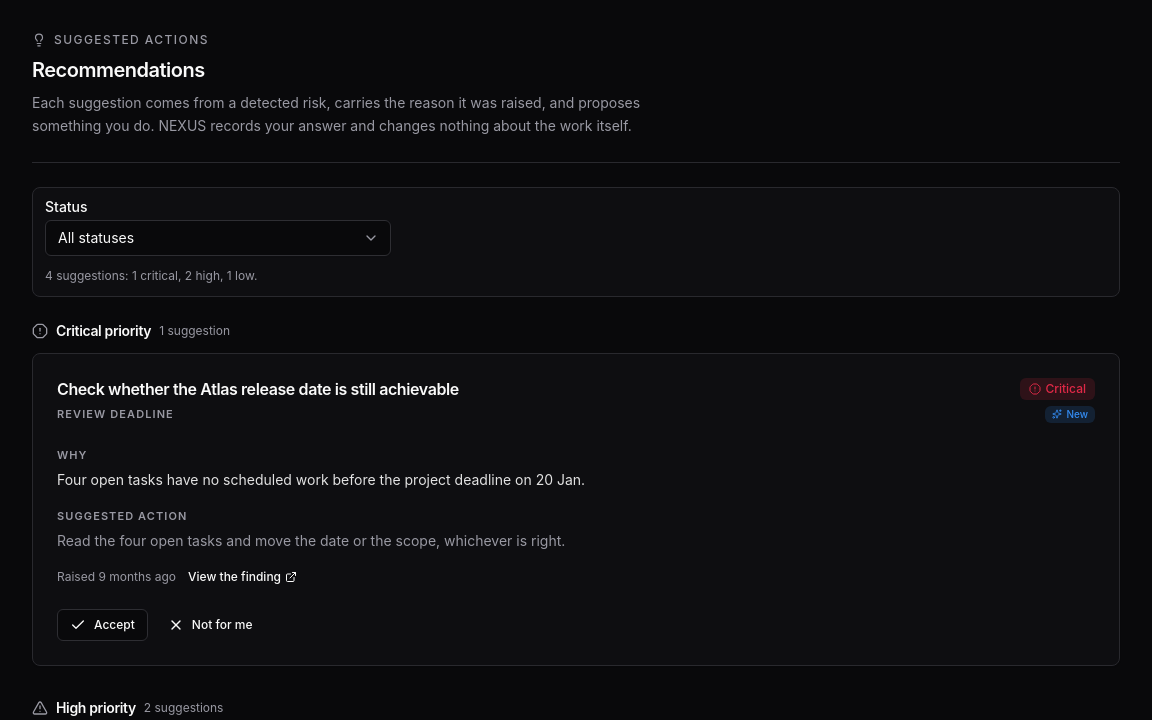
Test: recommendations page › answers with accept, completion and decline, each through its own endpoint
This screenshot has width=1152, height=720.
Expected: the heading "Check whether the Atlas release date is still achievable" is shown, left=57, top=378, right=459, bottom=400
Click the button "Accept": (102, 625) left=57, top=609, right=148, bottom=641
(page scrolled)
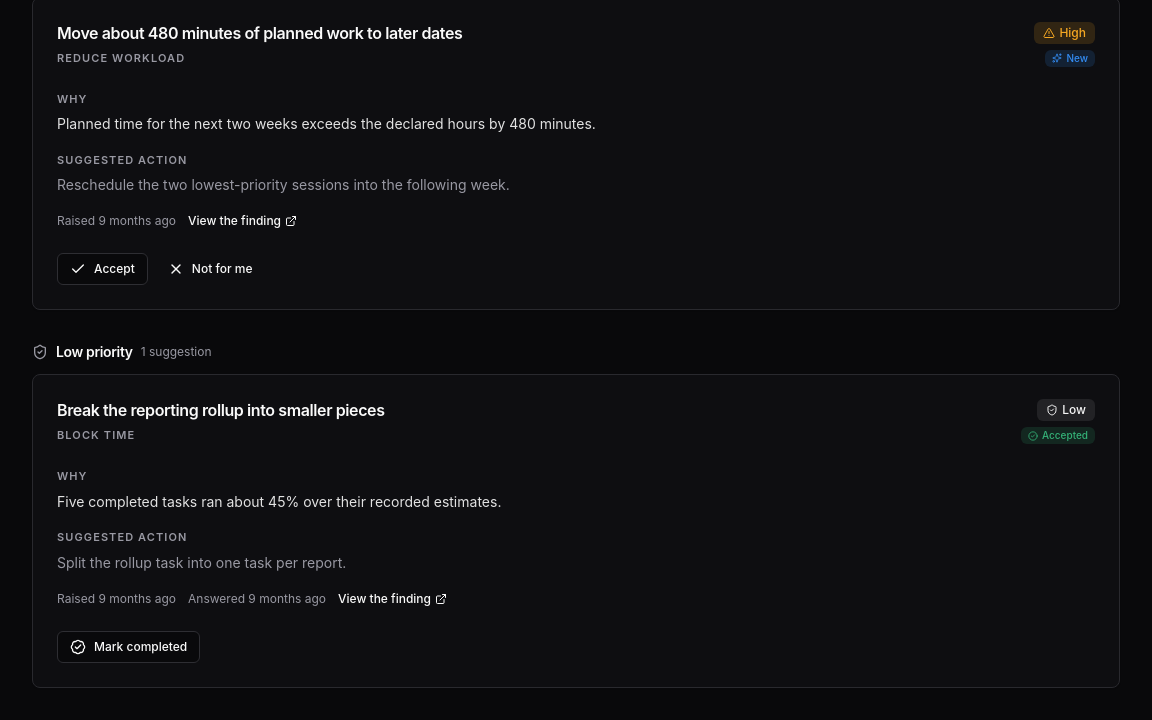
# Mark completed, on a suggestion that was already accepted.
Click the button "Mark completed": (129, 646) left=57, top=630, right=200, bottom=662
(page scrolled)
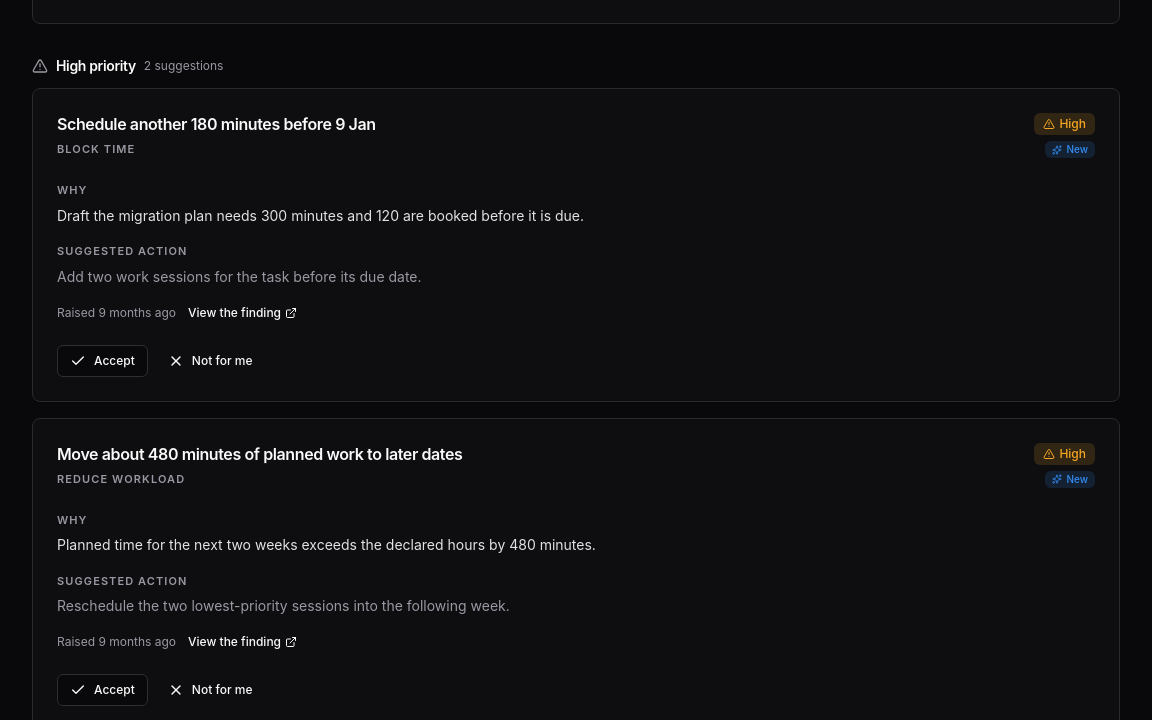
Click the 1st button "Not for me": (210, 360) left=156, top=344, right=264, bottom=376
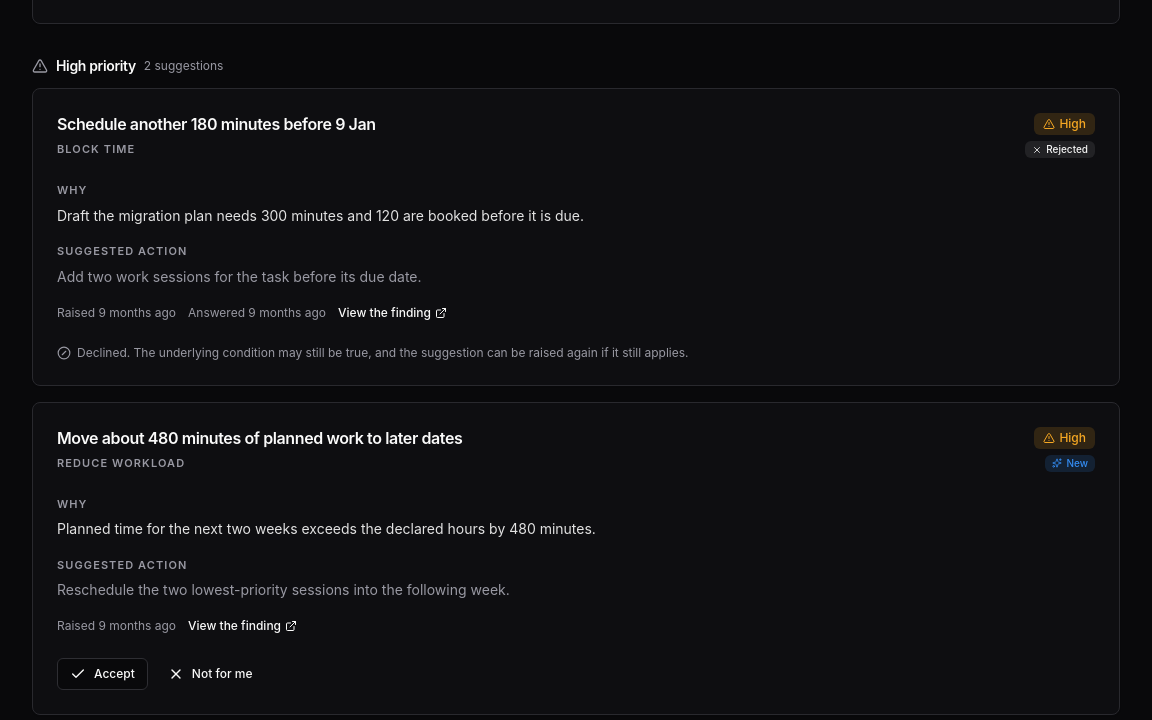
Result: the text "Rejected" is shown at left=1025, top=141, right=1095, bottom=158
Result: the text "Declined." is shown at left=77, top=344, right=688, bottom=360
